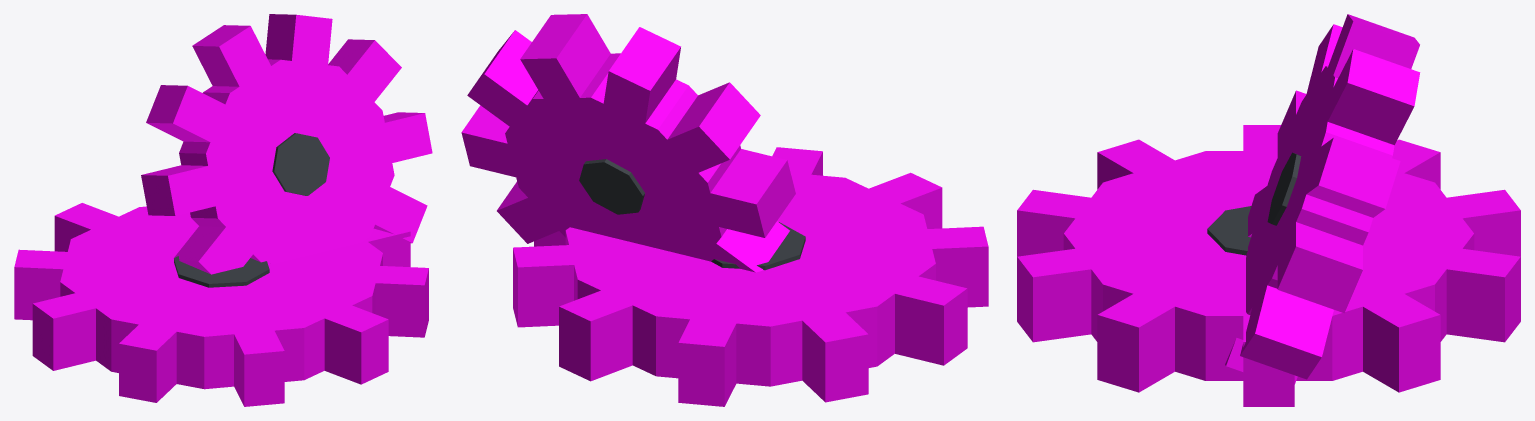
Rendered from objet_engrenage.glb.
3 renders of one model, left to right at view 1: azimuth 30°, elevation 25°; view 2: azimuth 150°, elevation 25°; view 3: azimuth 270°, elevation 25°, orthographic. The views are drawn at different scales.
Visible parts, largest first — view 1: engrenages_teinte.002, engrenages_teinte_sombre.002; view 2: engrenages_teinte.002, engrenages_teinte_sombre.002; view 3: engrenages_teinte.002, engrenages_teinte_sombre.002.
Part boxes in pixels (<box>): engrenages_teinte.002: <box>14,14,432,406</box>; engrenages_teinte_sombre.002: <box>174,133,329,287</box>; engrenages_teinte.002: <box>461,14,988,406</box>; engrenages_teinte_sombre.002: <box>579,159,805,270</box>; engrenages_teinte.002: <box>1017,14,1520,406</box>; engrenages_teinte_sombre.002: <box>1207,152,1301,255</box>.
Bounding box in the file's own units: 0.275 × 0.1794 × 0.2455.
